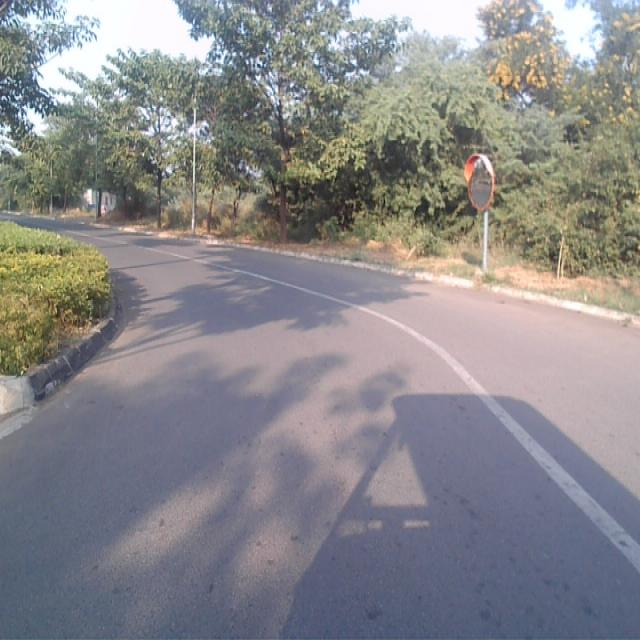lane: (0, 242, 640, 640)
